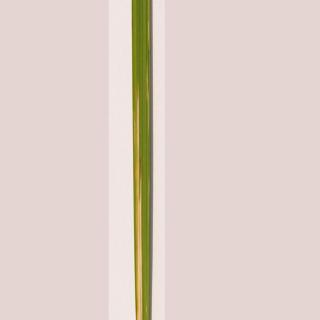Hawar-Daun: (122, 102, 157, 320)
